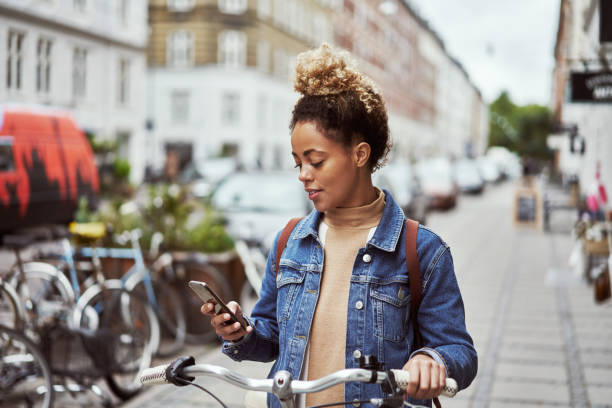without mask: (276, 116, 372, 208)
